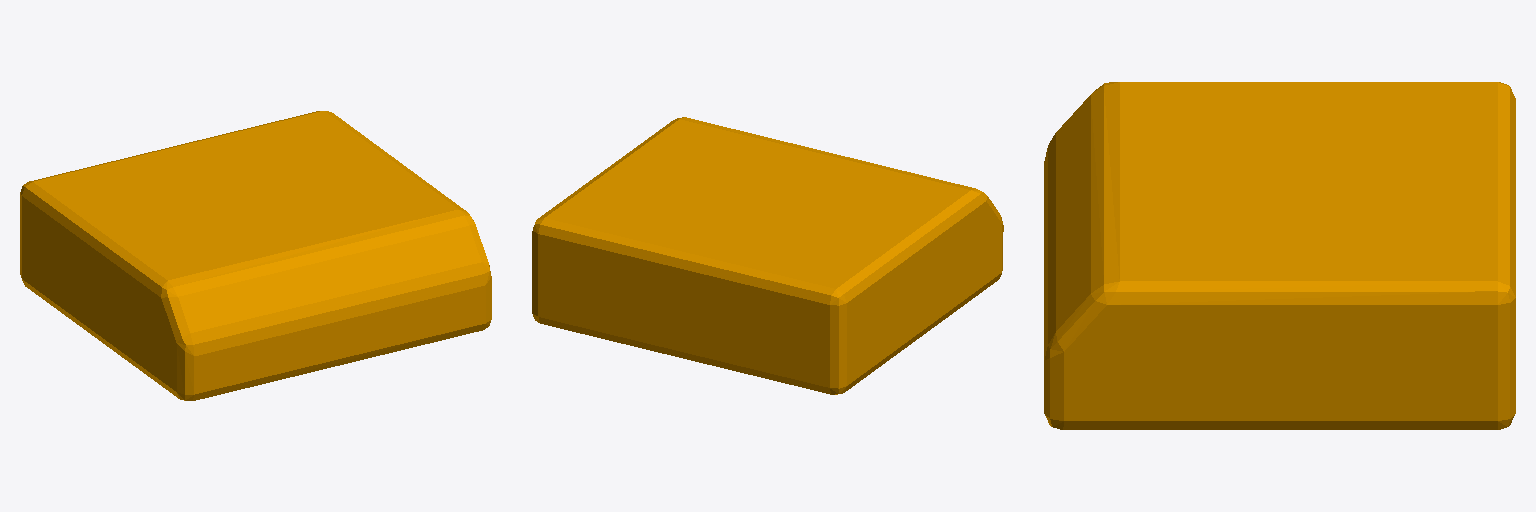
robot.urdf — Hood:
<robot name="Hood">
    <link name="hood">
        <visual>
            <geometry>
                <mesh filename="meshes/hood.obj"/>
            </geometry>
        </visual>
        <collision>
            <geometry>
                <mesh filename="meshes/hood.obj"/>
            </geometry>
        </collision>
    </link>
</robot>

--- Facts derived from the render (not from the file) ---
Views: 3 orthographic renders of the robot side by side, from view 1: azimuth 30°, elevation 25°; view 2: azimuth 150°, elevation 25°; view 3: azimuth 270°, elevation 25°.
Robot: Hood — 1 links, 0 joints (none); root link hood; default pose: all joints at 0.
Visible links, largest first — view 1: hood; view 2: hood; view 3: hood.
Link boxes in pixels (box(x1,y1,x2,y2)): hood: box(20, 111, 491, 400); hood: box(532, 117, 1003, 394); hood: box(1044, 82, 1515, 429).
Bounding box of the posed robot: 0.1146 × 0.1065 × 0.037 m (x, y, z).
1 mesh visuals loaded from 1 distinct referenced files (1 OBJ).